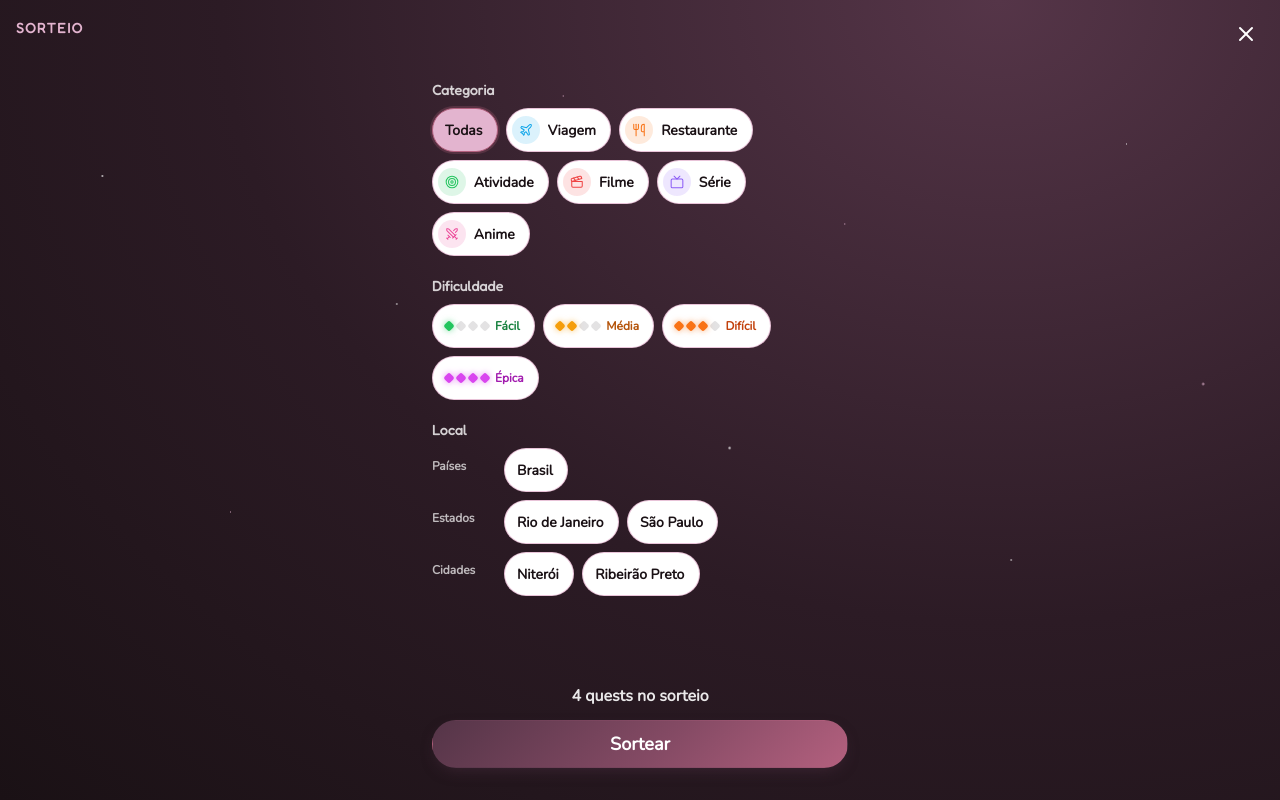
Test case: a city picked in another category never hides the quests of the new one
Click the button "Ribeirão Preto" at point(641, 574), box [582, 552, 700, 596]
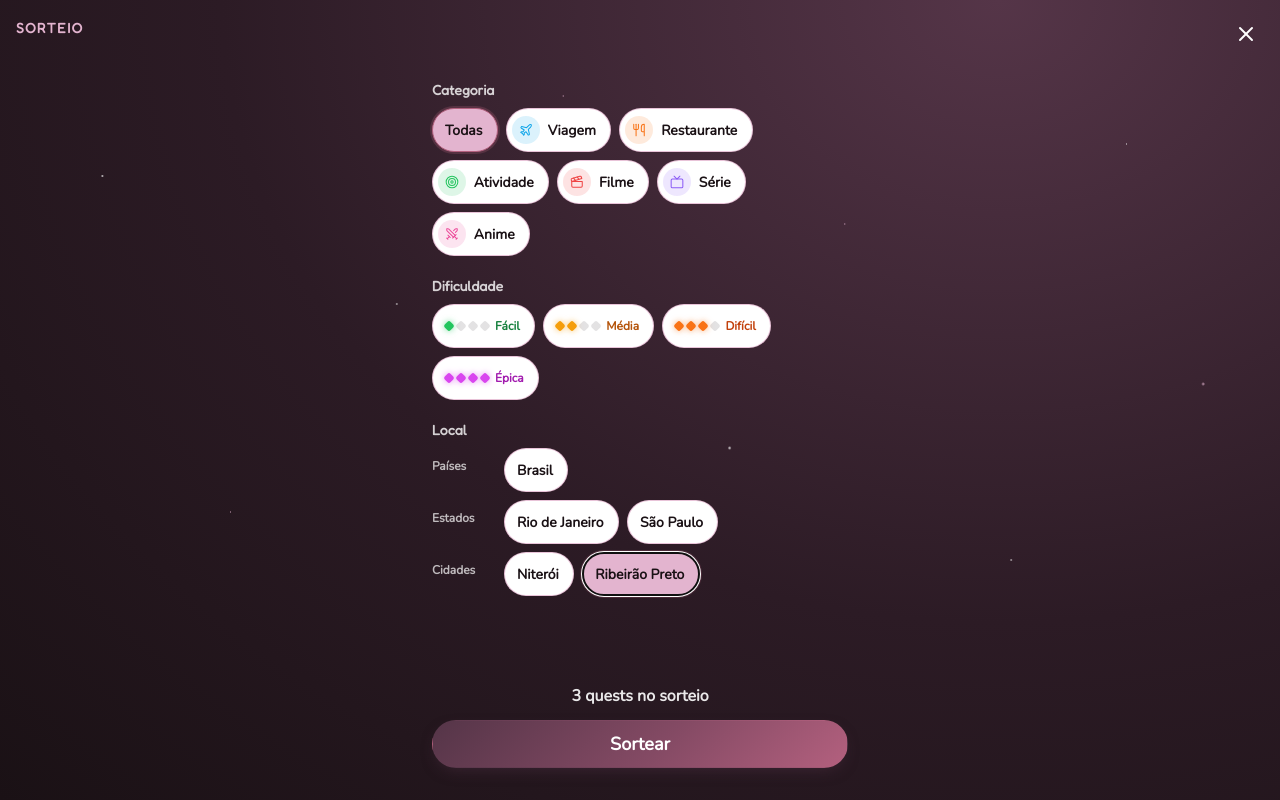
Click the button "Filme" at point(603, 182), box [557, 160, 649, 204]
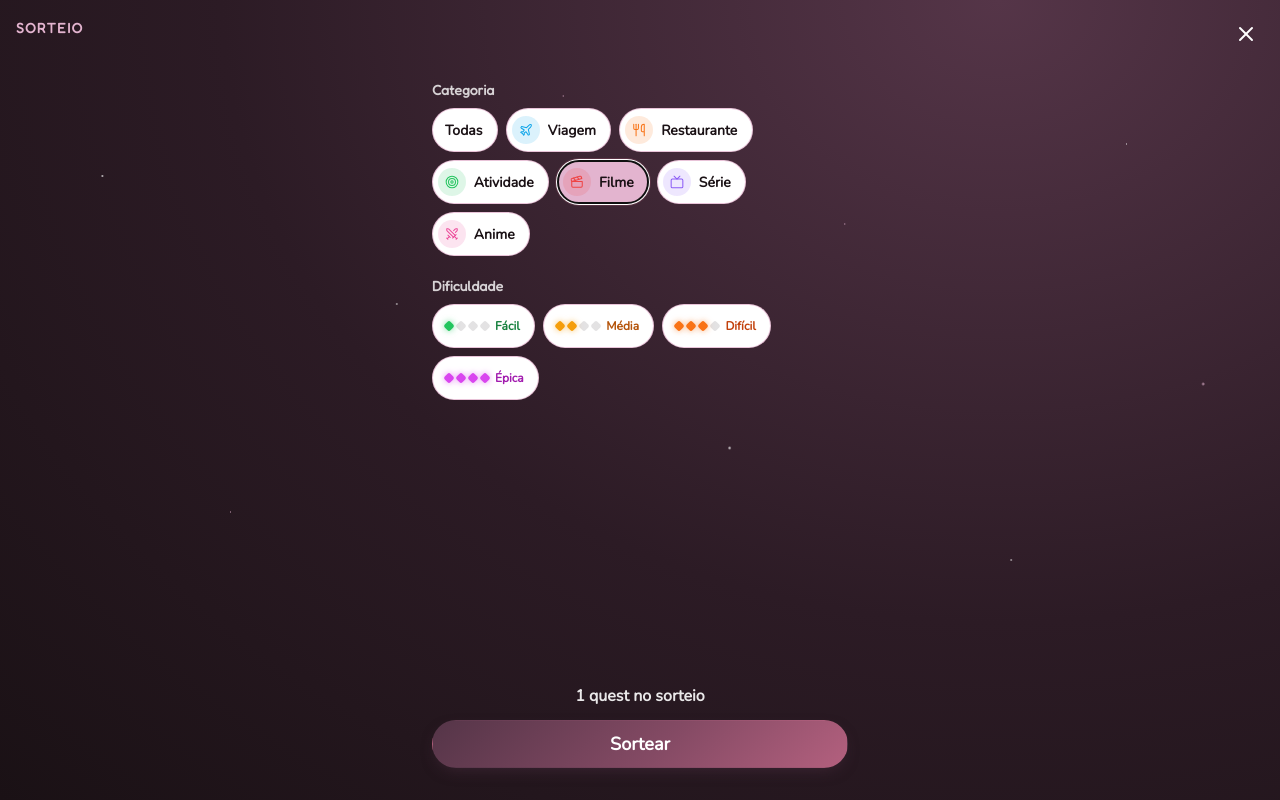
Expected: the button "Sortear" is enabled, [432, 720, 848, 768]
Now the text "1 quest no sorteio" is shown, box [575, 685, 705, 707]
